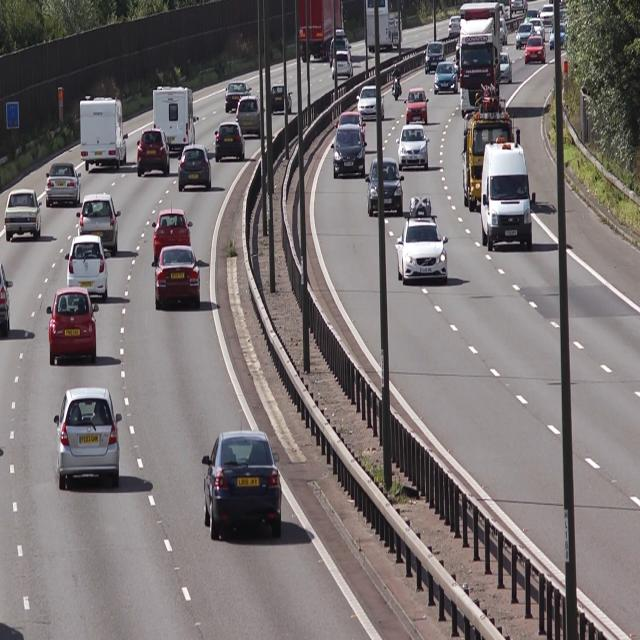Car: (201, 431, 284, 539), (54, 386, 123, 488), (482, 138, 534, 251), (396, 196, 452, 286), (458, 2, 500, 118), (46, 288, 100, 366), (78, 92, 130, 170), (152, 247, 204, 313), (152, 83, 200, 152), (65, 235, 110, 302), (77, 192, 121, 254), (152, 206, 195, 268), (370, 157, 405, 217), (5, 186, 41, 243), (176, 145, 215, 192), (134, 129, 170, 178), (334, 122, 366, 177), (46, 160, 82, 205), (396, 124, 428, 171), (216, 118, 247, 164), (234, 95, 266, 139), (220, 74, 252, 113), (358, 88, 387, 120), (269, 83, 295, 115), (406, 90, 431, 122), (426, 37, 445, 75), (433, 61, 456, 91), (525, 36, 547, 65)
